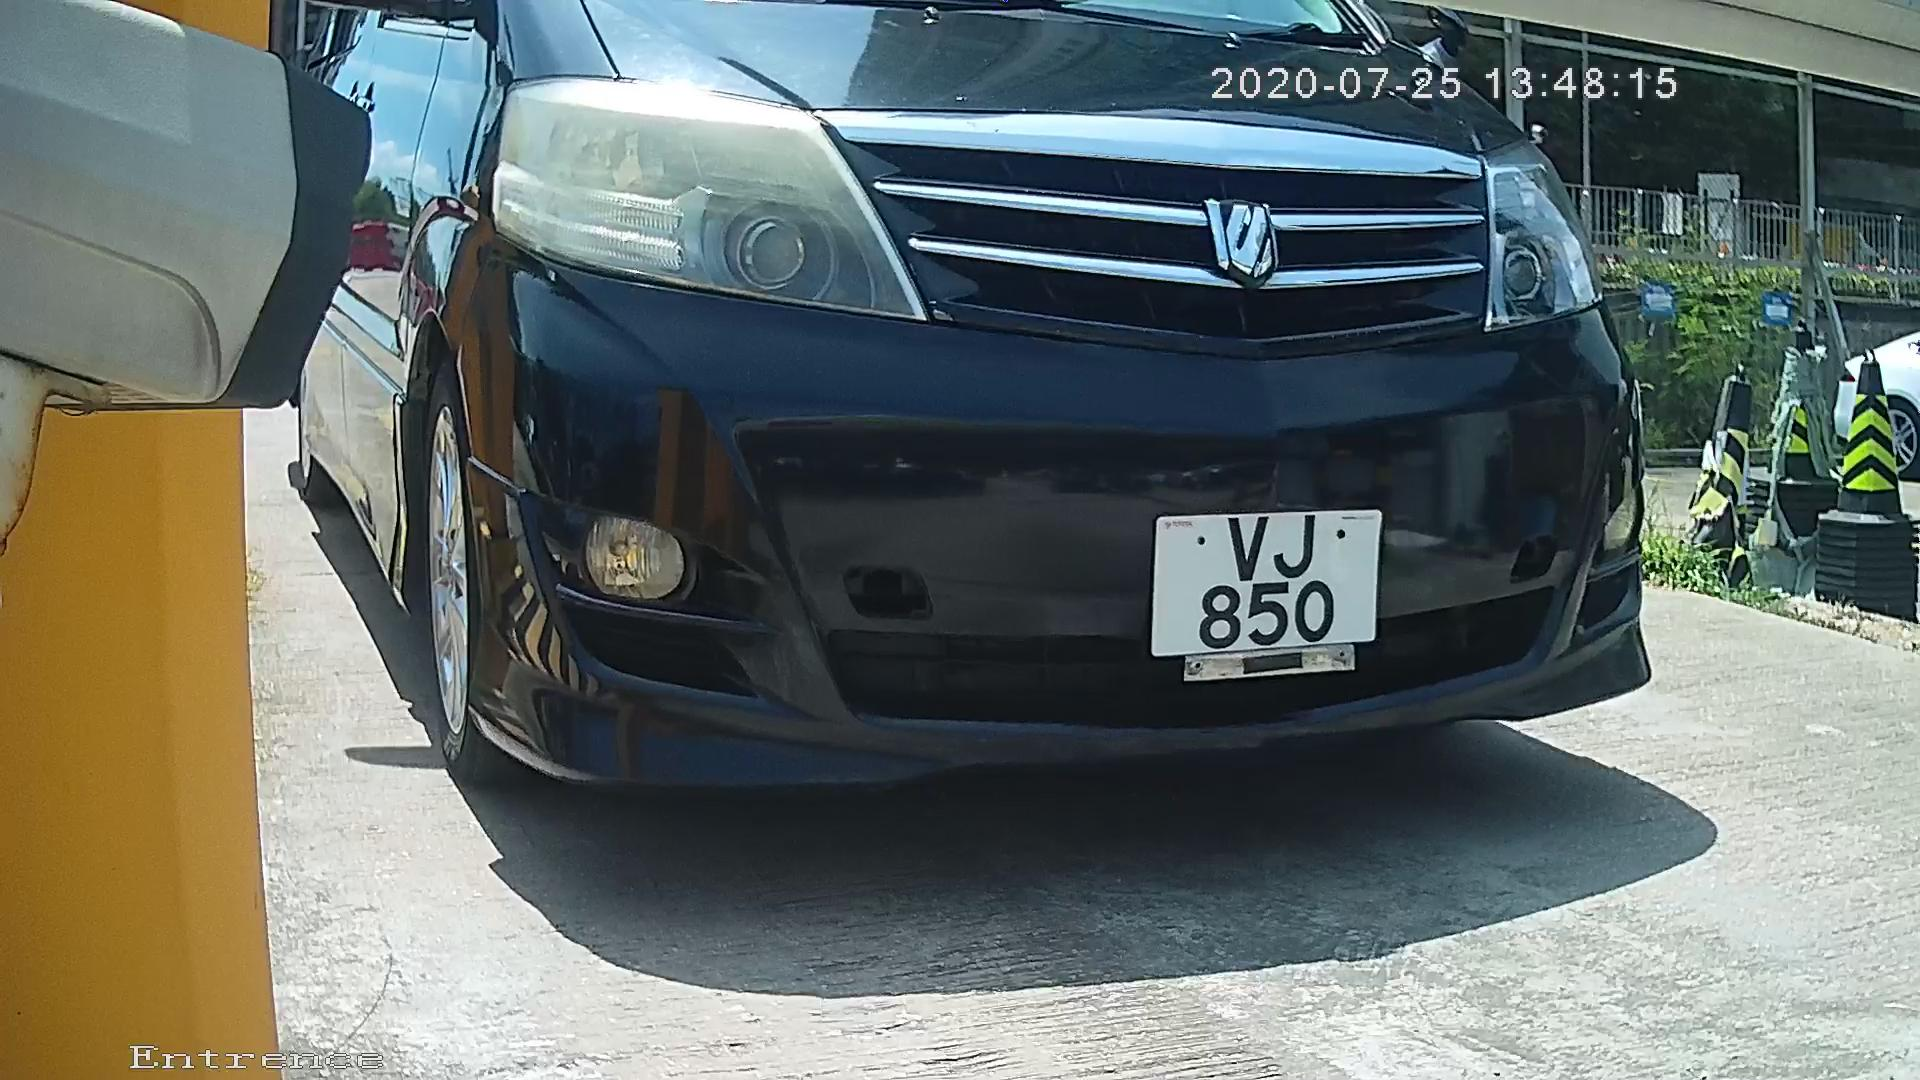Car: (163, 1, 1758, 892)
License Plate: (1141, 483, 1398, 700)
